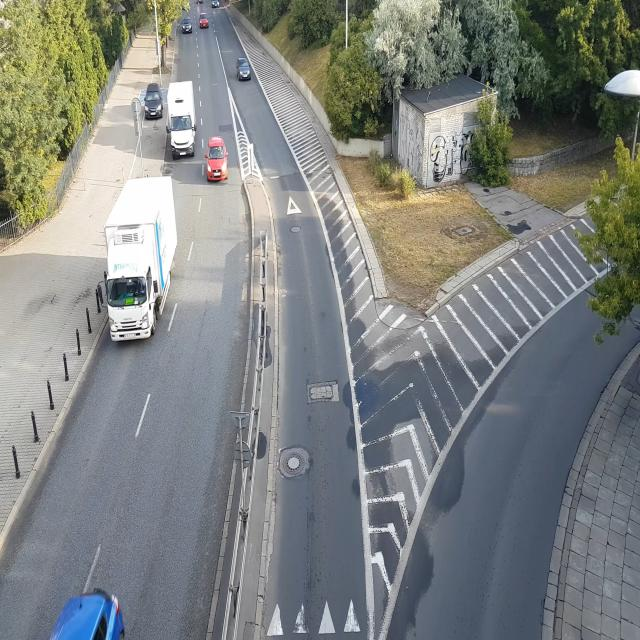car: (47, 578, 149, 640), (206, 136, 229, 182), (143, 88, 165, 120), (235, 56, 252, 80), (182, 14, 194, 34), (199, 16, 211, 29), (211, 0, 222, 9)
truck: (104, 180, 179, 344), (164, 81, 196, 161)
